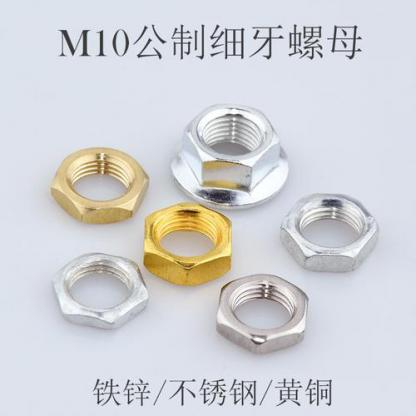FOD: (170, 100, 290, 211), (278, 190, 381, 274), (211, 270, 311, 356), (46, 146, 152, 224), (141, 202, 234, 288), (49, 252, 147, 330)
